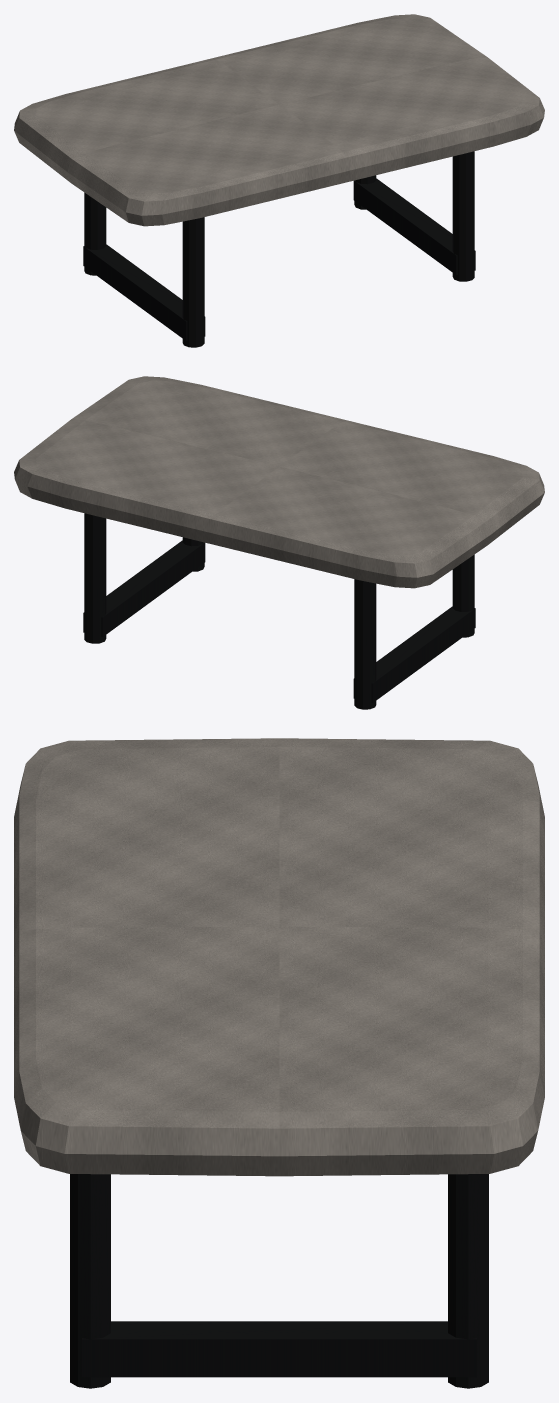
Rendered from coffee-table_lod2.glb.
3 renders of one model, top to bottom at view 1: azimuth 30°, elevation 25°; view 2: azimuth 150°, elevation 25°; view 3: azimuth 270°, elevation 25°, orthographic. The views are drawn at different scales.
Parts seen in each view (by area): view 1: top, rail_1, rail_2, leg_1_b, leg_2_b, leg_1_a; view 2: top, rail_1, rail_2, leg_1_a, leg_2_a, leg_1_b; view 3: top, rail_2, leg_2_b, leg_2_a.
Part boxes in pixels (box(x1,y1,x2,y2)): top: box(14, 14, 544, 226); rail_1: box(83, 244, 205, 340); rail_2: box(353, 178, 475, 274); leg_1_b: box(182, 217, 204, 347); leg_2_b: box(452, 151, 474, 281); leg_1_a: box(84, 192, 106, 275); top: box(14, 376, 544, 588); rail_1: box(353, 606, 475, 702); rail_2: box(83, 540, 205, 636); leg_1_a: box(354, 579, 376, 709); leg_2_a: box(84, 513, 106, 643); leg_1_b: box(452, 554, 474, 637); top: box(14, 738, 544, 1176); rail_2: box(82, 1321, 476, 1377); leg_2_b: box(70, 1174, 110, 1388); leg_2_a: box(448, 1174, 488, 1388).
Bounding box in the file's own units: 1.1 × 0.42 × 0.62.
2 materials, 2 textured.
